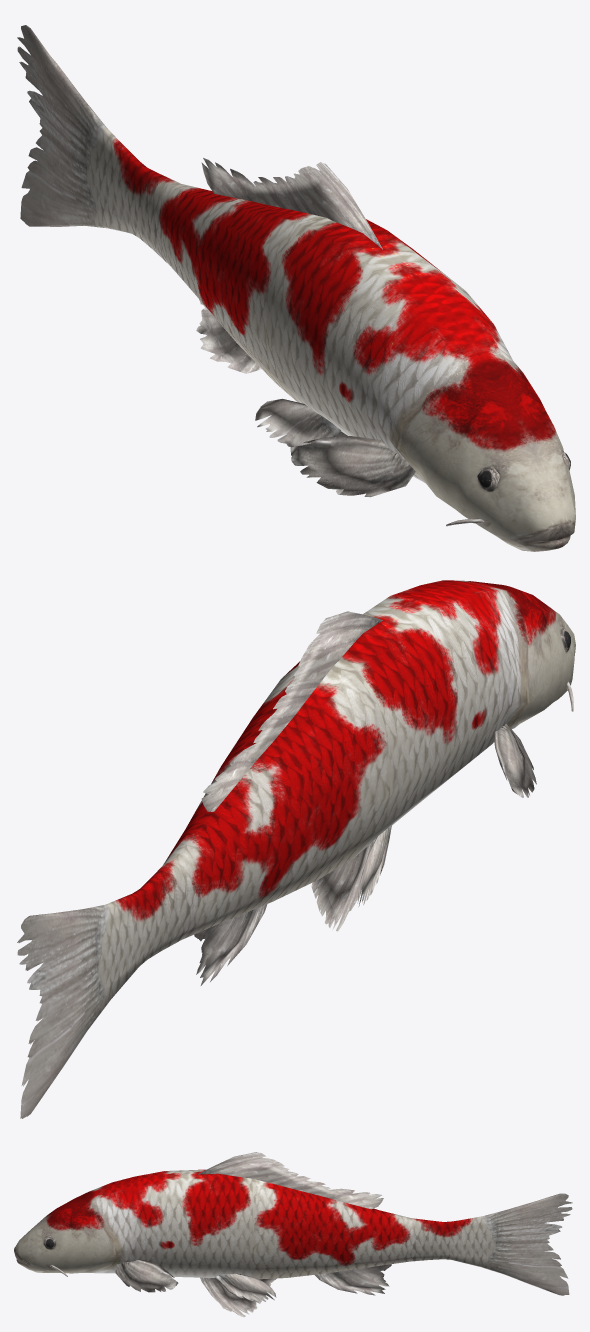
3 views of the same model, one above another, from view 1: azimuth 30°, elevation 25°; view 2: azimuth 150°, elevation 25°; view 3: azimuth 270°, elevation 25° (orthographic). The views are drawn at different scales.
Visible parts, largest first — view 1: fish; view 2: fish; view 3: fish.
Boxes of the visible parts, x1=… form: fish: x1=17, y1=25, x2=575, y2=551; fish: x1=17, y1=580, x2=575, y2=1118; fish: x1=14, y1=1152, x2=572, y2=1317.
Size of the model in its own units: 71.85 by 96.41 by 296.
